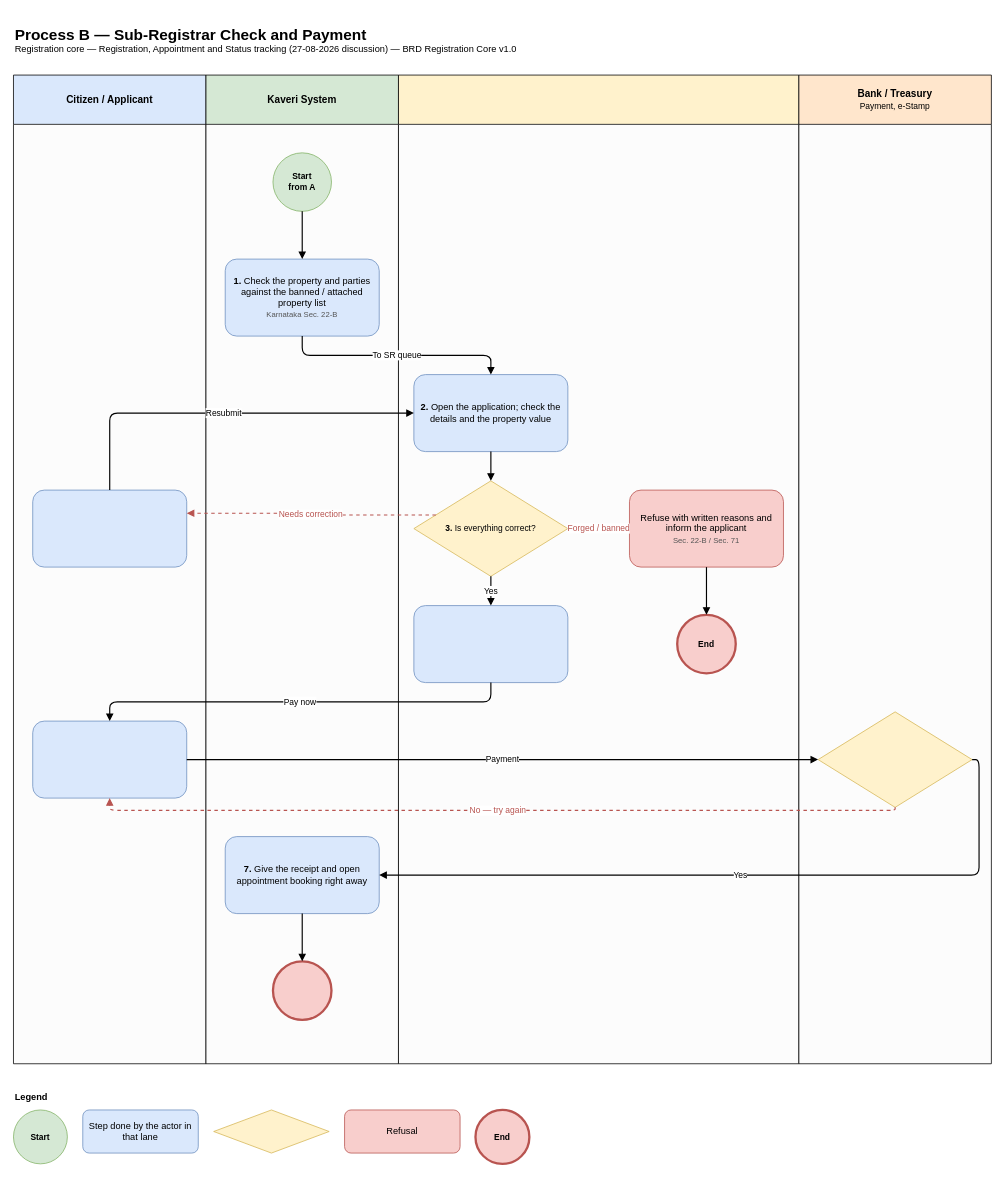
Image size: 1005x1178. Some labels were removed from this diagram. The shapes that lost their labels are listed below. From the top down, each one's box as (x1, y1, x2, y2) in pixels, then its label:
(32, 489, 187, 567): Correct only the parts marked by the SR and resubmit
(398, 74, 799, 1064): Sub-Registrar (SR)
(413, 605, 568, 683): 4. Send to the applicant for payment
(32, 720, 187, 798): 5. Pay stamp duty and fee online, by challan or e-Stamp Stamp Act Sec. 10
(817, 711, 972, 807): 6. Payment received?
(271, 960, 332, 1021): End Go to C
(213, 1109, 329, 1153): Decision / check
